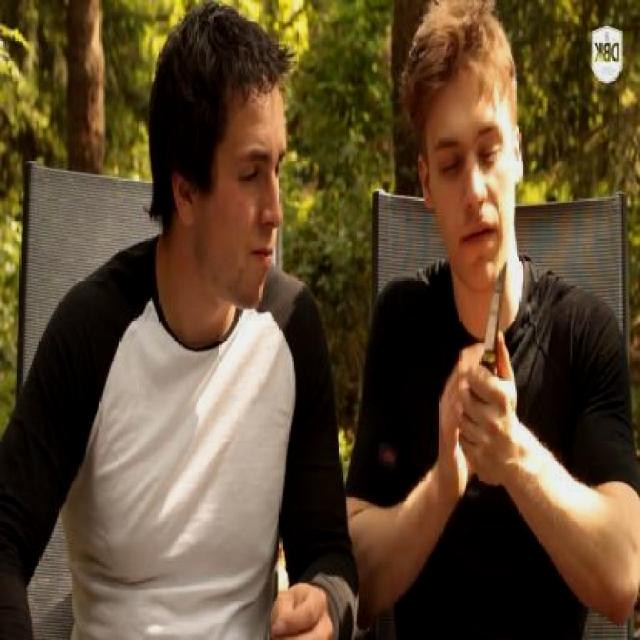knife: (450, 248, 528, 429)
